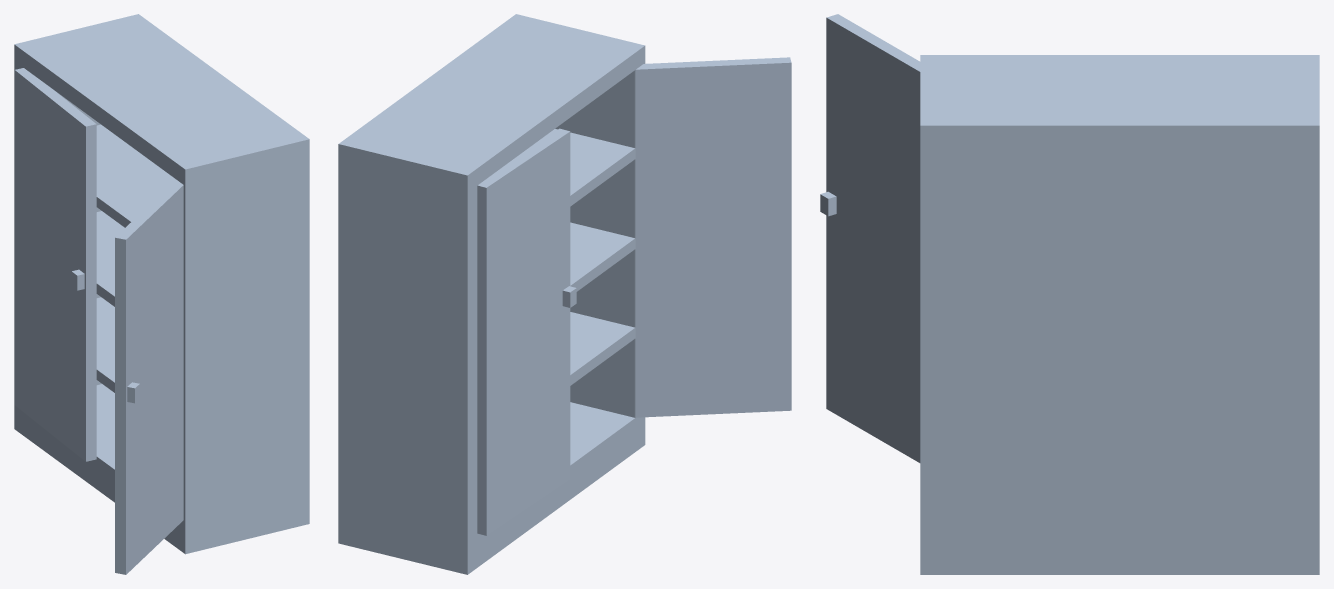
File: Wardroob 1.fbx
3 views of the same model, side by side, from view 1: azimuth 30°, elevation 25°; view 2: azimuth 150°, elevation 25°; view 3: azimuth 270°, elevation 25° (orthographic). The views are drawn at different scales.
Parts seen in each view (by area): view 1: Cube.009; view 2: Cube.009; view 3: Cube.009.
Part boxes in pixels (x1,y1,x2,y2): Cube.009: (14, 14, 309, 574); Cube.009: (338, 14, 791, 574); Cube.009: (820, 14, 1319, 574).
Bounding box in the file's own units: 156 × 249 × 251.
